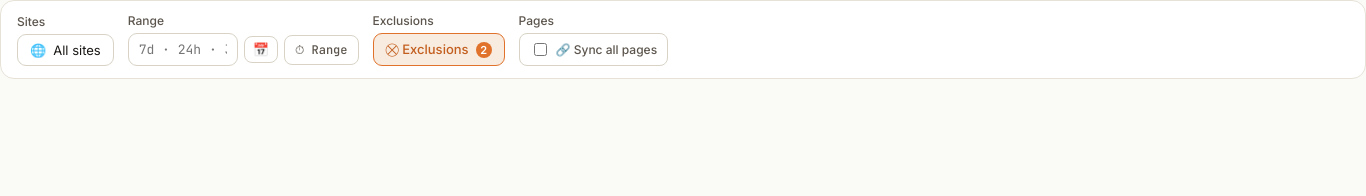
Test case: FilterBar — the date pickers on an ET-day range (a drilled dateEt page) › shows the one ET day 2026-03-08 on both pickers and as the single date Mar 8
This screenshot has width=1366, height=196.
What coordinates should you click on to do the following:
click the button with class "cal-btn"
I would click on:
 (261, 50)
Its box is [244,36,278,63].
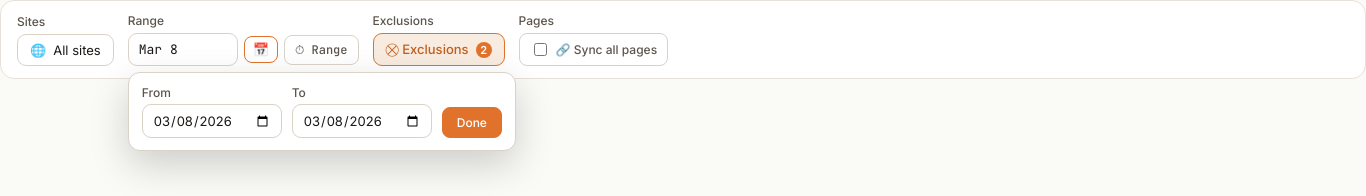
Expected: the field with class "range-field" holds "Mar 8", [128,33,238,66]
